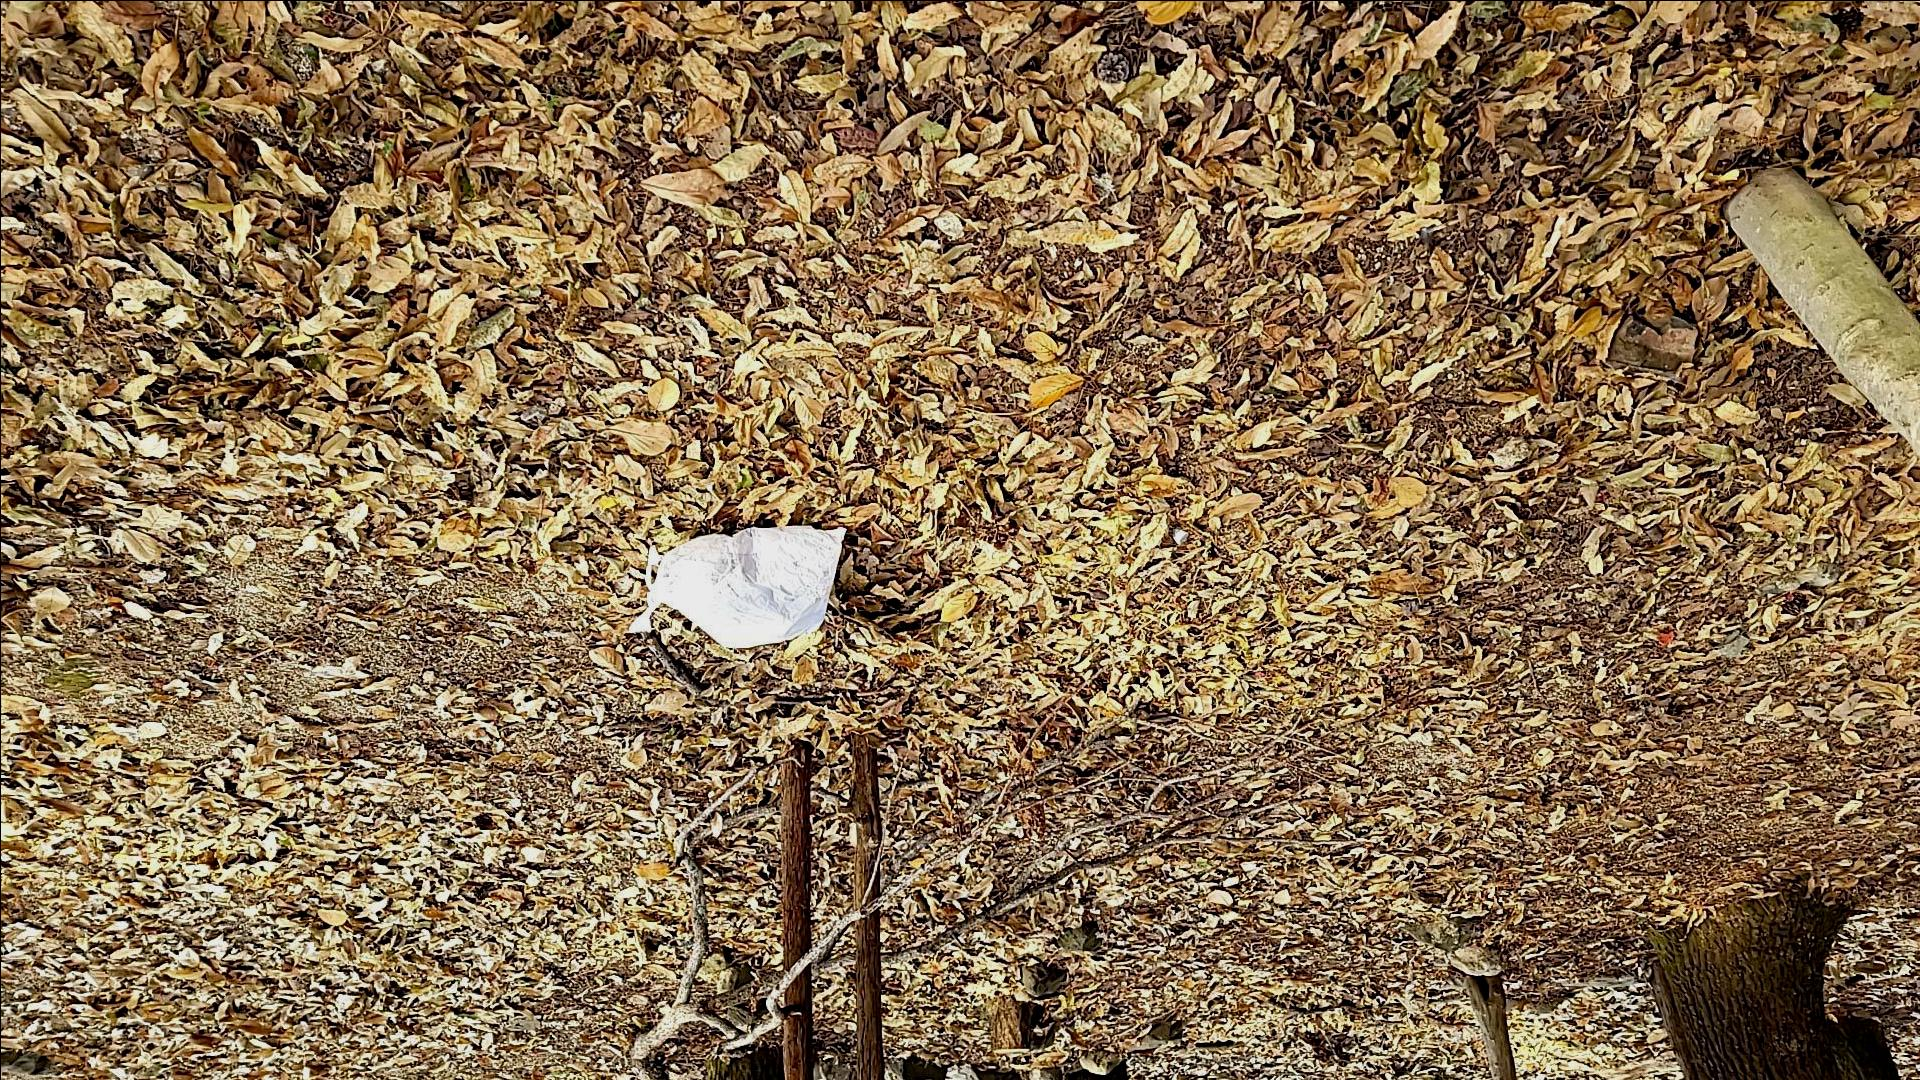white_bag: (617, 506, 855, 654)
